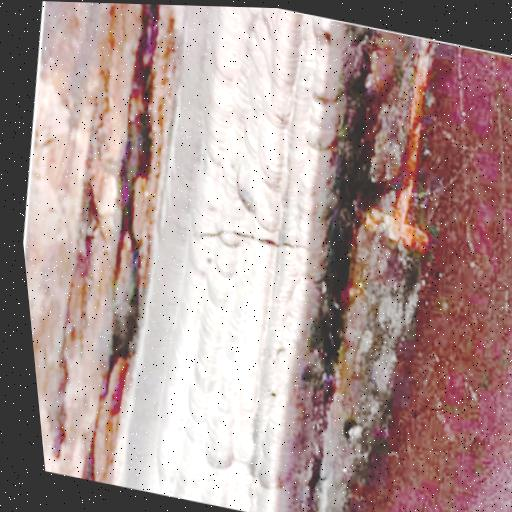crack: (194, 209, 313, 266)
